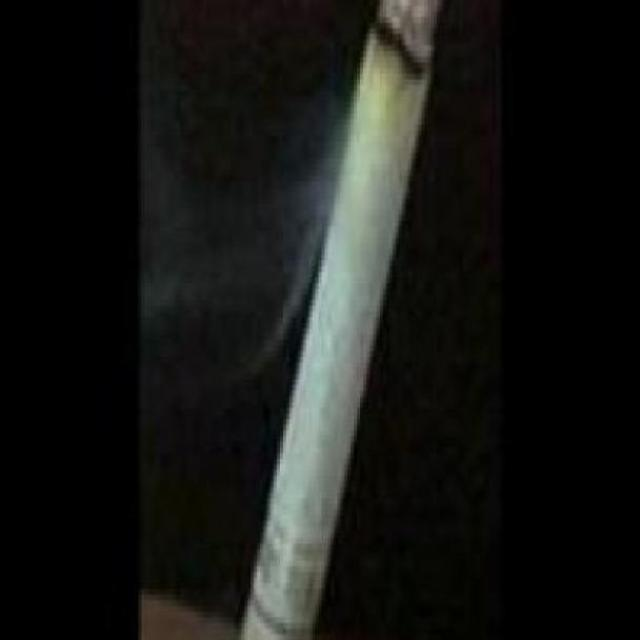rokok: (238, 1, 437, 640)
